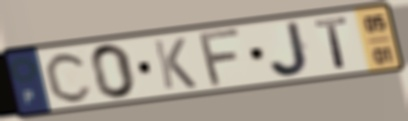0: (88, 42, 139, 102)
C: (43, 50, 95, 105)
F: (198, 26, 246, 90)
J: (267, 19, 314, 80)
K: (150, 36, 199, 92)
T: (312, 15, 352, 72)
